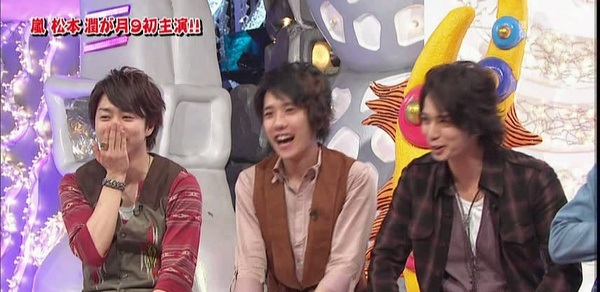face: (264, 94, 314, 158), (96, 99, 145, 158), (420, 101, 465, 160)
